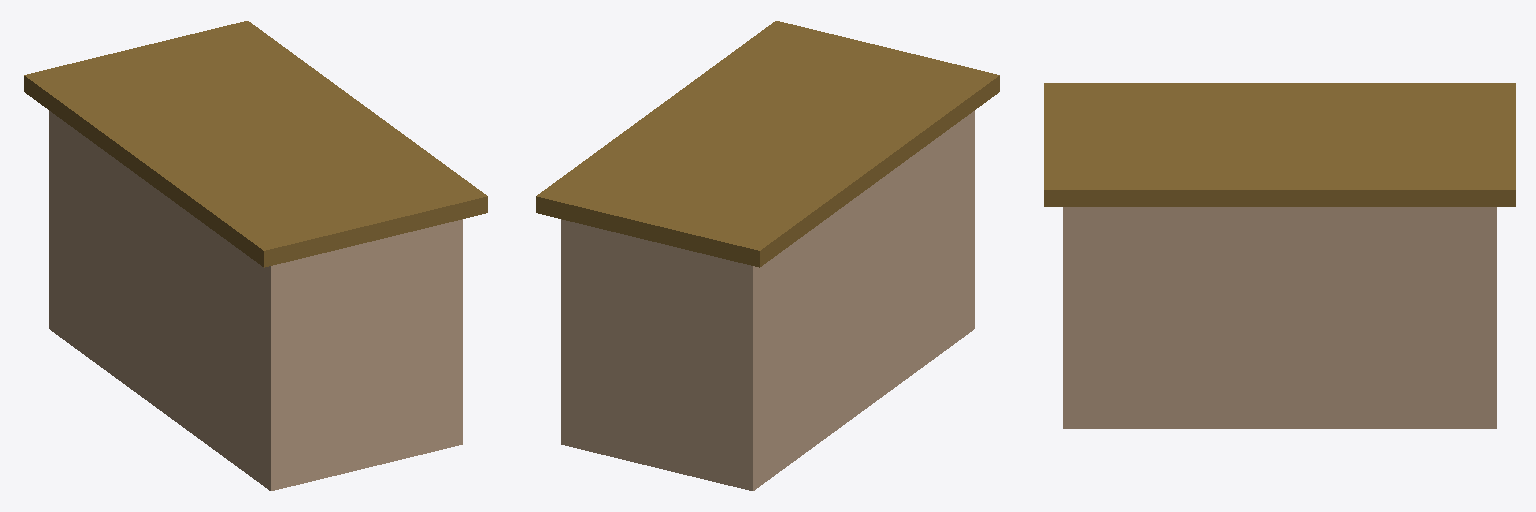
The robot description file, URDF, robot "kitchen_counter":
<robot name="kitchen_counter">
  <link name="kitchen_counter">
    <!-- Counter base -->
    <collision>
      <origin xyz="0 0 0.35" />
      <geometry>
        <box size="0.6 1.2 0.7" />
      </geometry>
    </collision>
    <visual>
      <origin xyz="0 0 0.35" />
      <material name="cardboard">
        <color rgba="0.78 0.68 0.58 1.0" />
      </material>
      <geometry>
        <box size="0.6 1.2 0.7" />
      </geometry>
    </visual>
    <!-- Counter top -->
    <collision>
      <origin xyz="0 0 0.725" />
      <geometry>
        <box size="0.7 1.3 0.05" />
      </geometry>
    </collision>
    <visual>
      <origin xyz="0 0 0.725" />
      <material name="wood sunmica">
        <color rgba="0.58 0.47 0.26 1.0" />
      </material>
      <geometry>
        <box size="0.7 1.3 0.05" />
      </geometry>
    </visual>
  </link>
</robot>

--- Facts derived from the render (not from the file) ---
Views: 3 orthographic renders of the robot side by side, from view 1: azimuth 30°, elevation 25°; view 2: azimuth 150°, elevation 25°; view 3: azimuth 270°, elevation 25°.
Model kitchen_counter with 1 links and 0 joints (none), rooted at kitchen_counter, posed every joint at zero.
Links seen in each view (by area): view 1: kitchen_counter; view 2: kitchen_counter; view 3: kitchen_counter.
Link boxes in pixels (<box>): kitchen_counter: <box>24,21,487,490</box>; kitchen_counter: <box>536,21,999,490</box>; kitchen_counter: <box>1044,83,1515,428</box>.
Size in the robot's own frame: 0.7 by 1.3 by 0.75 metres.
Geometry: primitives only (box / cylinder / sphere), no mesh files.